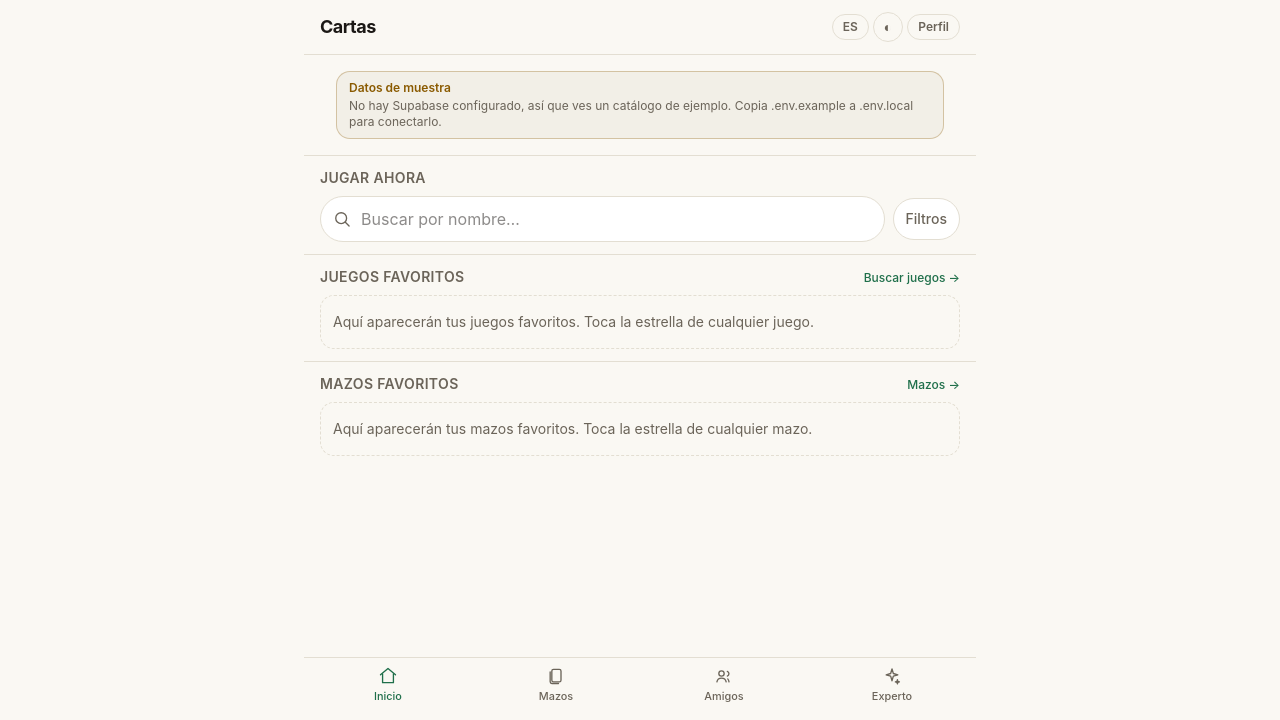
Test: home › opens the list as soon as you tap the box, without typing
expect the heading "Jugar ahora" is shown: met, box [320, 168, 426, 188]
Click the search field named "Buscar juegos".
click(602, 219)  # box [320, 196, 885, 242]
(page scrolled)
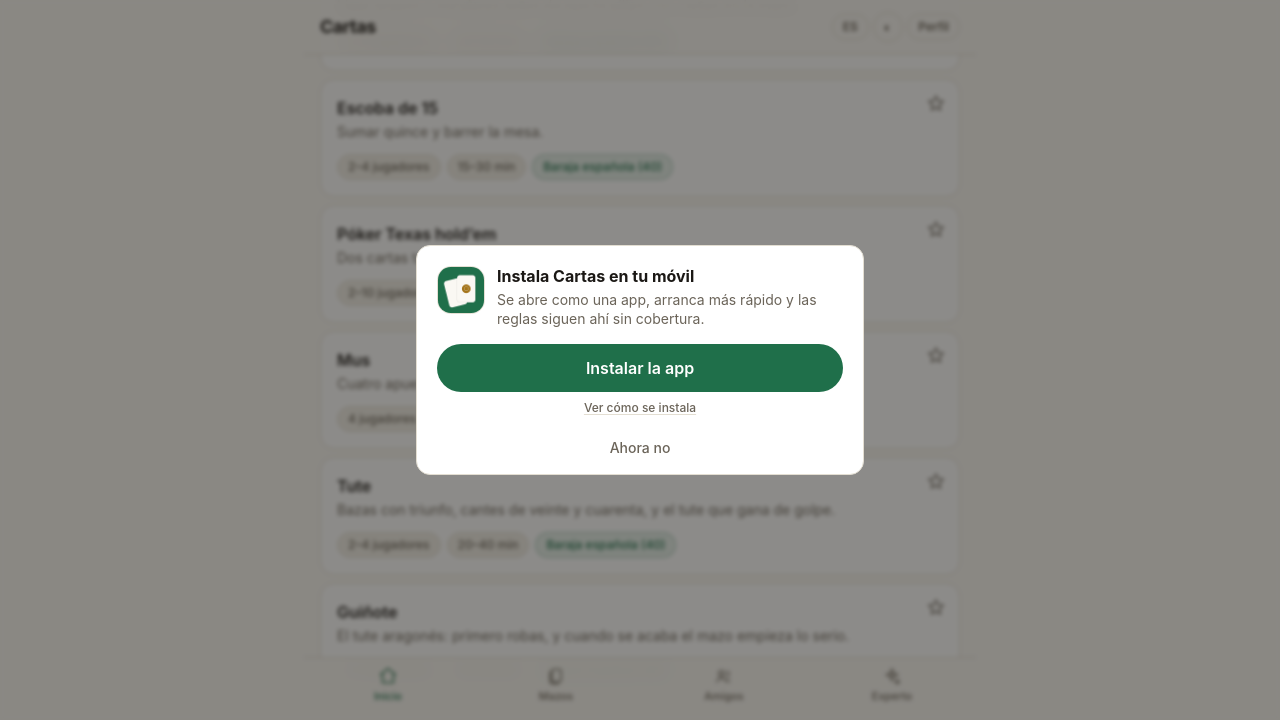
expect the heading "Mus" is shown: met, box [337, 348, 370, 372]
